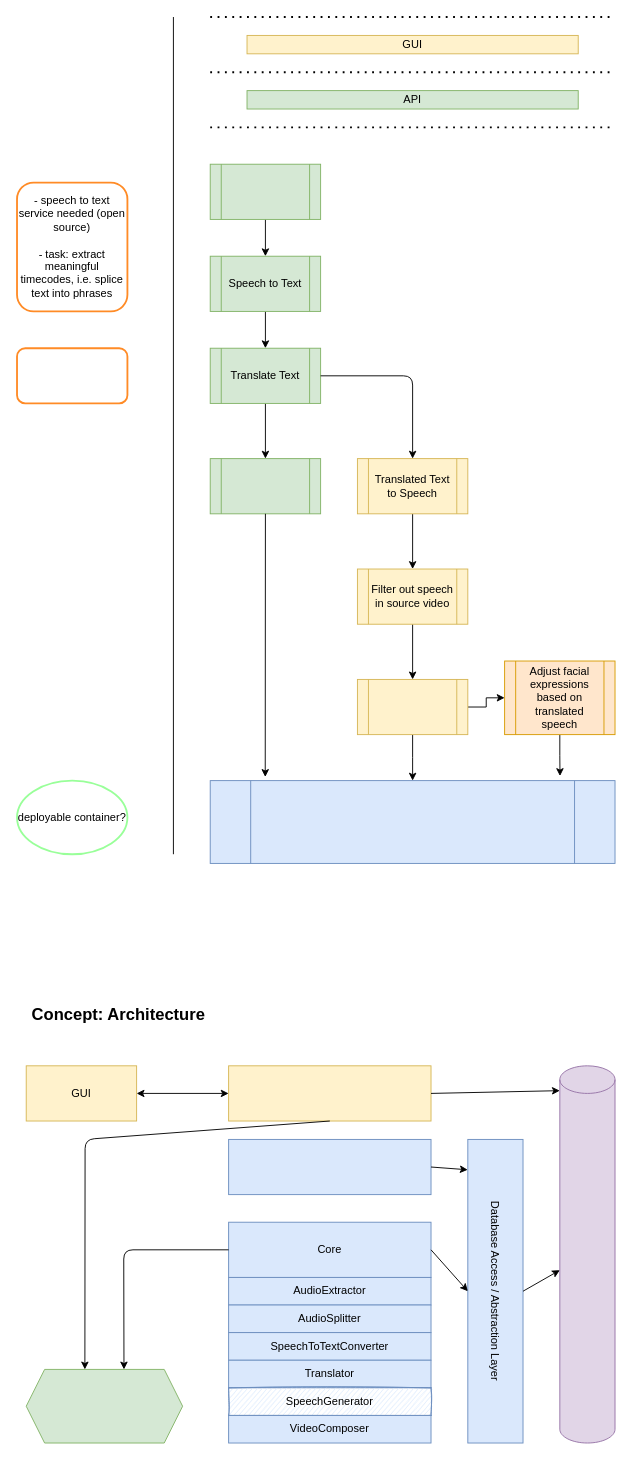
Image size: 632x1459. Some labels were removed from this diagram. Here are the shapes that lost their labels. From the top down, the centre of each, then its label:
the point at 265,191: Extract Audio
the point at 72,375: - translation service needed (open source)
the point at 265,486: Create and embed translated cc
the point at 412,706: Embed translated speech
the point at 412,821: Return video, extracted cc as text and translated cc as text
the point at 329,1093: REST API
the point at 329,1166: Scheduler
the point at 587,1254: DB
the point at 104,1405: Physical File Storage / Filesystem
